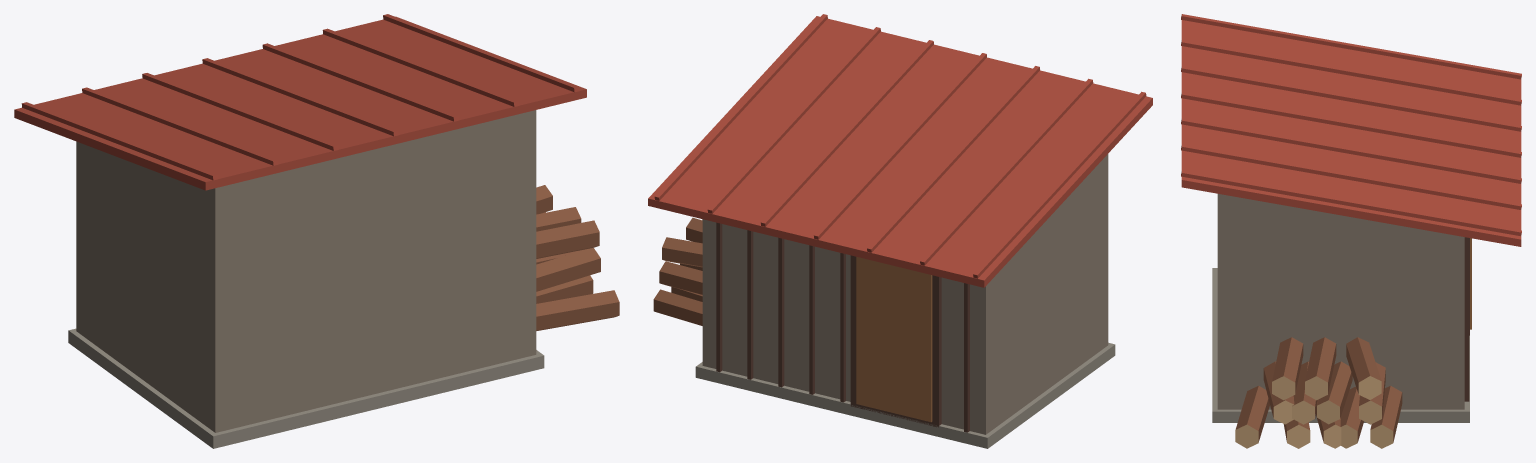
The model's file is shed.glb.
3 views of the same model, side by side, from view 1: azimuth 30°, elevation 25°; view 2: azimuth 150°, elevation 25°; view 3: azimuth 270°, elevation 25° (orthographic). The views are drawn at different scales.
Parts seen in each view (by area): view 1: shed; view 2: shed; view 3: shed.
Part boxes in pixels (x1=…): shed: x1=14, y1=14, x2=619, y2=448; shed: x1=648, y1=14, x2=1152, y2=448; shed: x1=1181, y1=14, x2=1521, y2=448.
Size of the model in its own units: 4.46 by 2.76 by 3.31.
